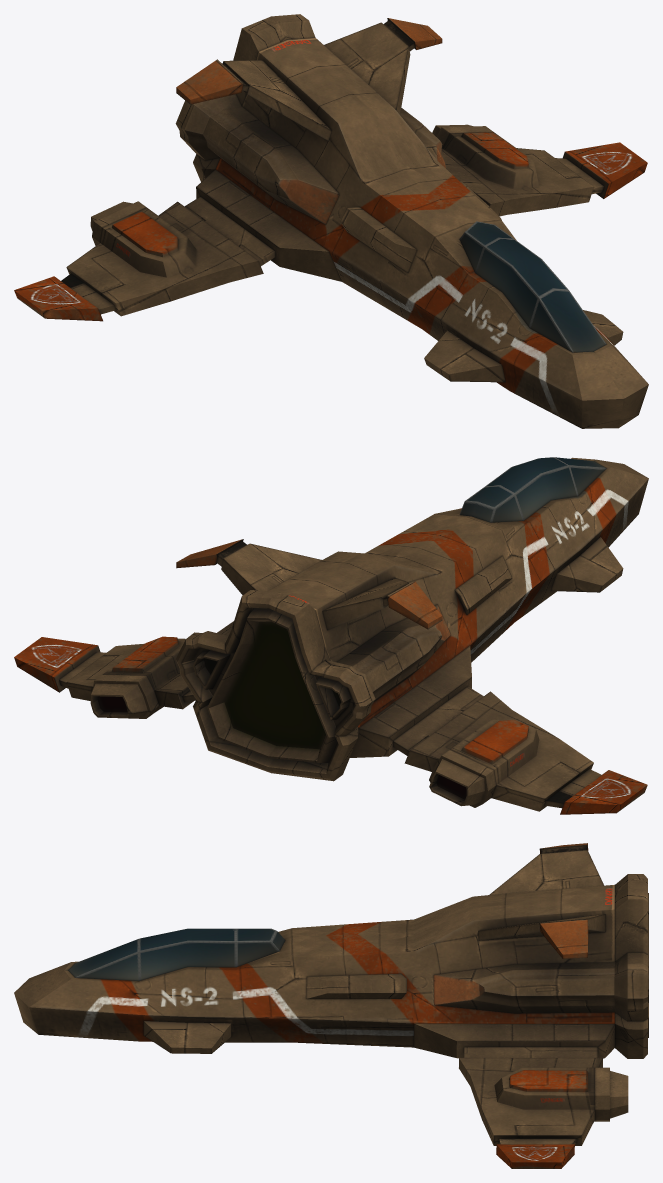
Rendered from SpaceShip.fbx.
3 renders of one model, top to bottom at view 1: azimuth 30°, elevation 25°; view 2: azimuth 150°, elevation 25°; view 3: azimuth 270°, elevation 25°, orthographic. The views are drawn at different scales.
Parts seen in each view (by area): view 1: Box001; view 2: Box001; view 3: Box001.
Part boxes in pixels (<box>): Box001: <box>14,14,648,428</box>; Box001: <box>14,457,648,814</box>; Box001: <box>14,843,648,1168</box>.
Bounding box in the file's own units: 410 × 119 × 418.
Materials: 1 (1 with a texture image).
